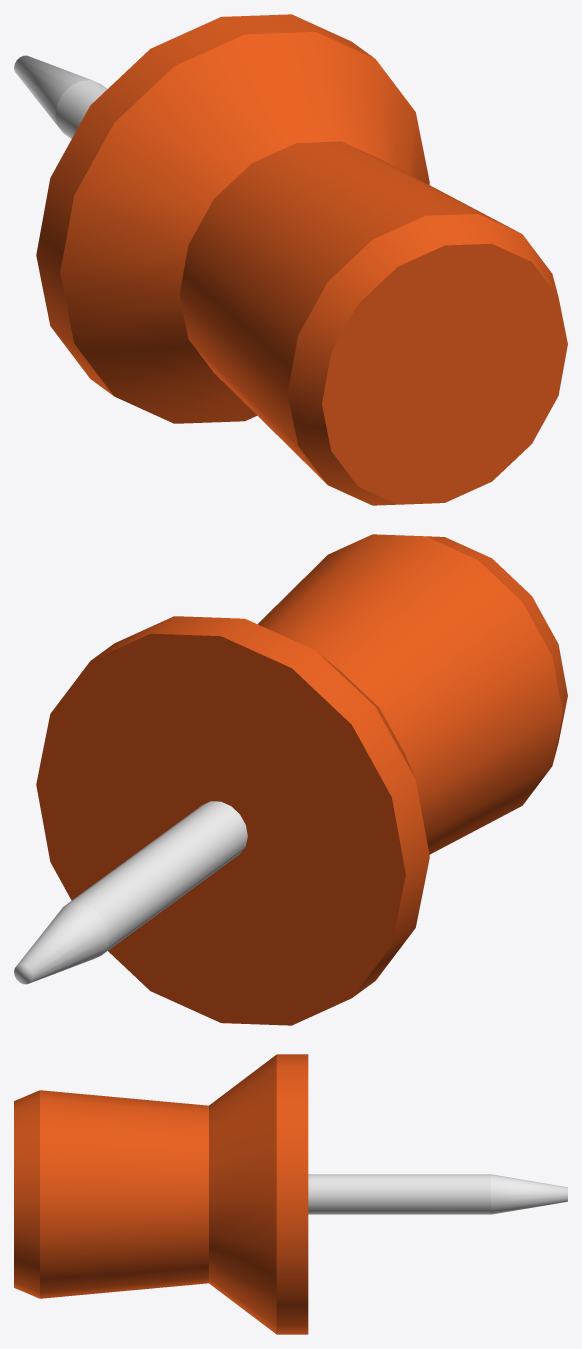
Rendered from Pin.fbx.
3 renders of one model, top to bottom at view 1: azimuth 30°, elevation 25°; view 2: azimuth 150°, elevation 25°; view 3: azimuth 270°, elevation 25°, orthographic. The views are drawn at different scales.
Parts seen in each view (by area): view 1: Pin; view 2: Pin; view 3: Pin.
Boxes of the visible parts, x1=… form: Pin: x1=14, y1=14, x2=567, y2=505; Pin: x1=14, y1=534, x2=567, y2=1025; Pin: x1=14, y1=1054, x2=567, y2=1334.
Size of the model in its own units: 2.95 by 2.95 by 5.82.
